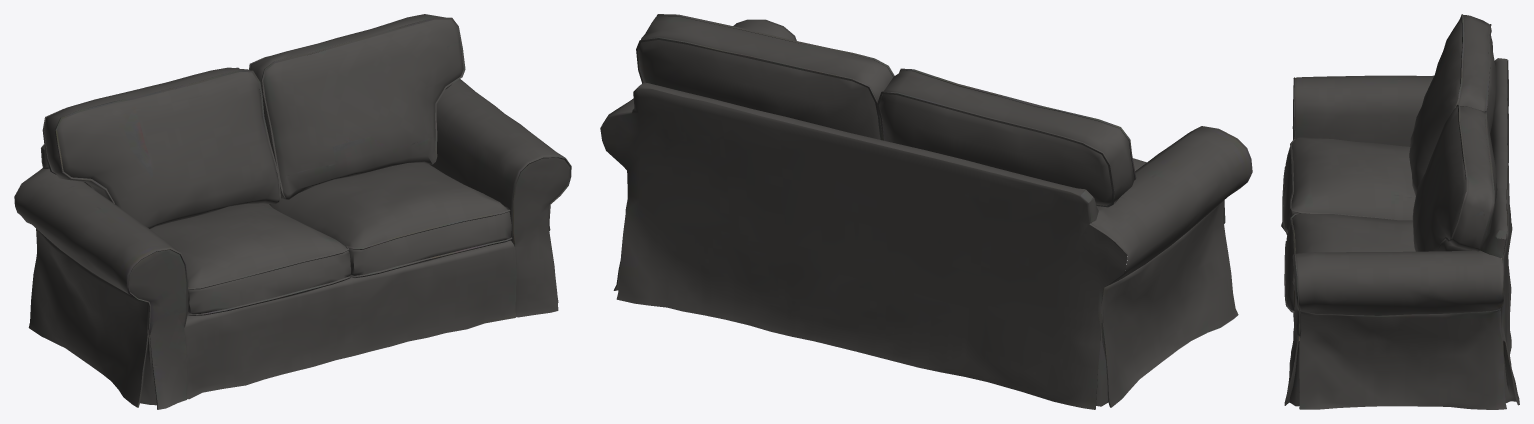
File: cover-tallmyra-srednioszary.glb
3 renders of one model, left to right at view 1: azimuth 30°, elevation 25°; view 2: azimuth 150°, elevation 25°; view 3: azimuth 270°, elevation 25°, orthographic. The views are drawn at different scales.
Parts seen in each view (by area): view 1: Mesh_0; view 2: Mesh_0; view 3: Mesh_0.
Part boxes in pixels (x1=…): Mesh_0: x1=14, y1=14, x2=571, y2=409; Mesh_0: x1=600, y1=14, x2=1252, y2=409; Mesh_0: x1=1281, y1=14, x2=1519, y2=409.
Size of the model in its own units: 1.79 by 0.88 by 0.88.
Materials: 2 (2 with a texture image).
